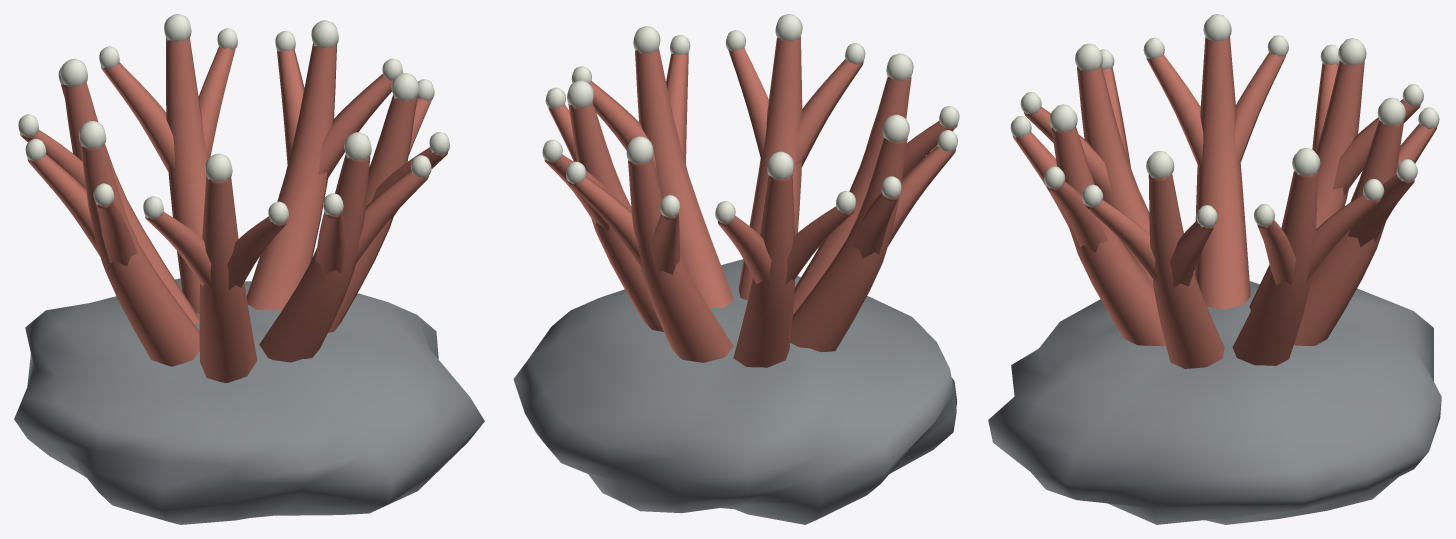
The model's file is coral_head.glb.
3 renders of one model, left to right at view 1: azimuth 30°, elevation 25°; view 2: azimuth 150°, elevation 25°; view 3: azimuth 270°, elevation 25°, orthographic. The views are drawn at different scales.
Parts seen in each view (by area): view 1: coral-head; view 2: coral-head; view 3: coral-head.
Boxes of the visible parts, x1=… form: coral-head: x1=14, y1=14, x2=484, y2=524; coral-head: x1=513, y1=14, x2=959, y2=524; coral-head: x1=988, y1=14, x2=1441, y2=524.
Size of the model in its own units: 1.01 by 1.01 by 1.02.
